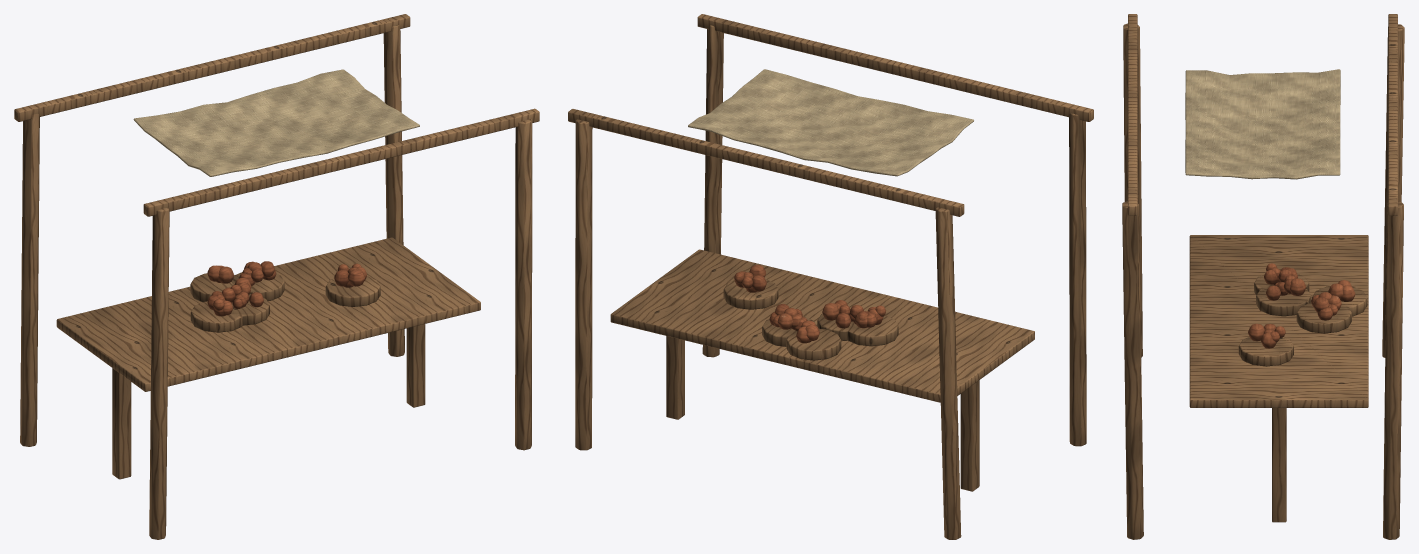
Rendered from canopy_fruit.glb.
3 views of the same model, side by side, from view 1: azimuth 30°, elevation 25°; view 2: azimuth 150°, elevation 25°; view 3: azimuth 270°, elevation 25° (orthographic).
Visible parts, largest first — view 1: canopy_fruit; view 2: canopy_fruit; view 3: canopy_fruit.
Part boxes in pixels (box(x1,y1,x2,y2)): canopy_fruit: box(14, 14, 539, 539); canopy_fruit: box(568, 14, 1093, 539); canopy_fruit: box(1122, 14, 1404, 539).
Bounding box in the file's own units: 2.8 × 2.29 × 1.74.
Materials: 3 (3 with a texture image).
